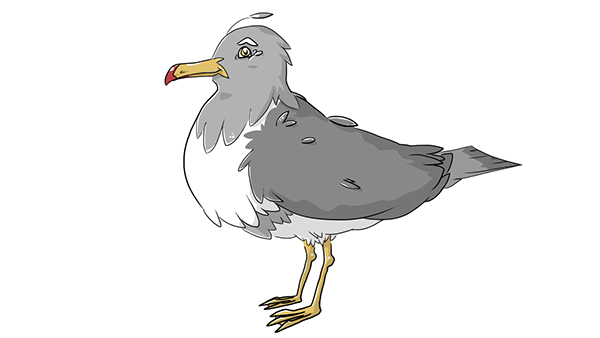bird: (152, 8, 534, 338)
